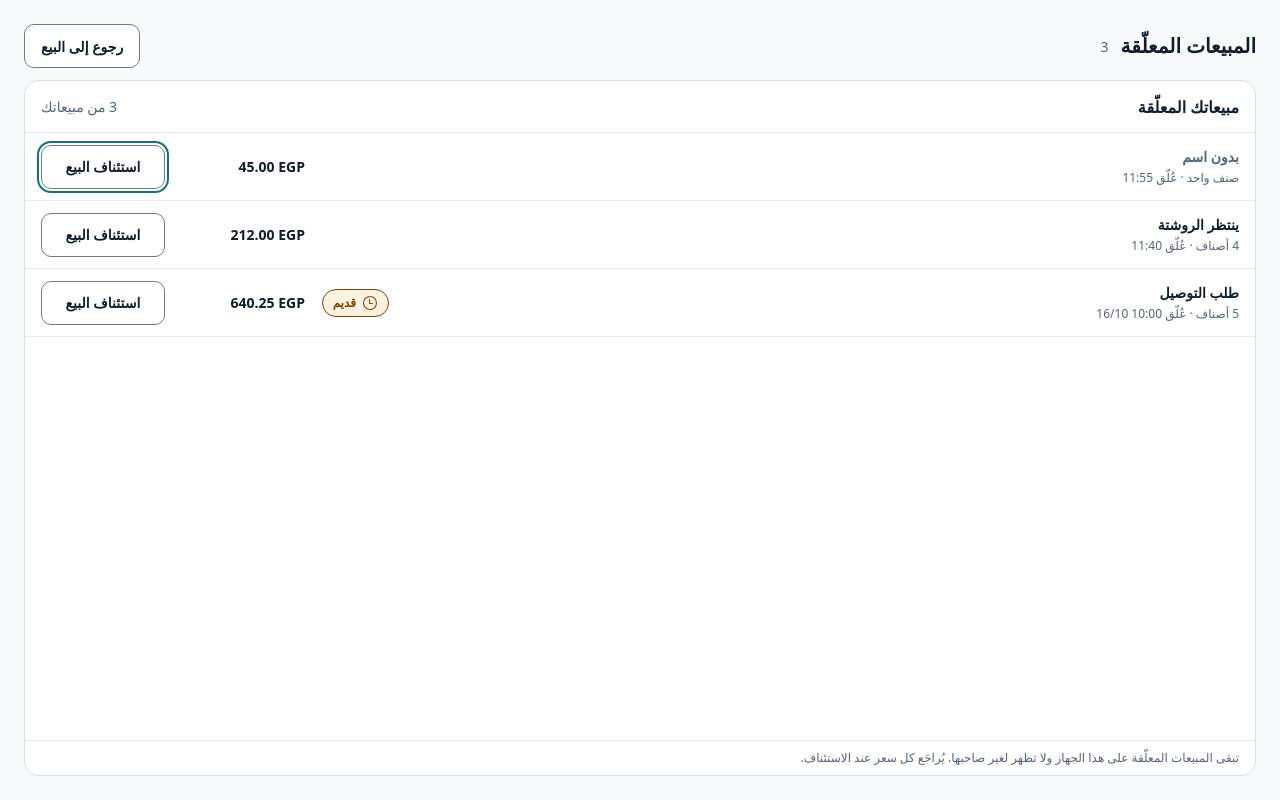
Test case: resume (spec 024 §3.3–§3.4) › removed lines only: «قبول الحذف واستئناف البيع»
Click the button "استئناف البيع" in the row of "ينتظر الروشتة" at (103, 234), box [41, 212, 165, 256]
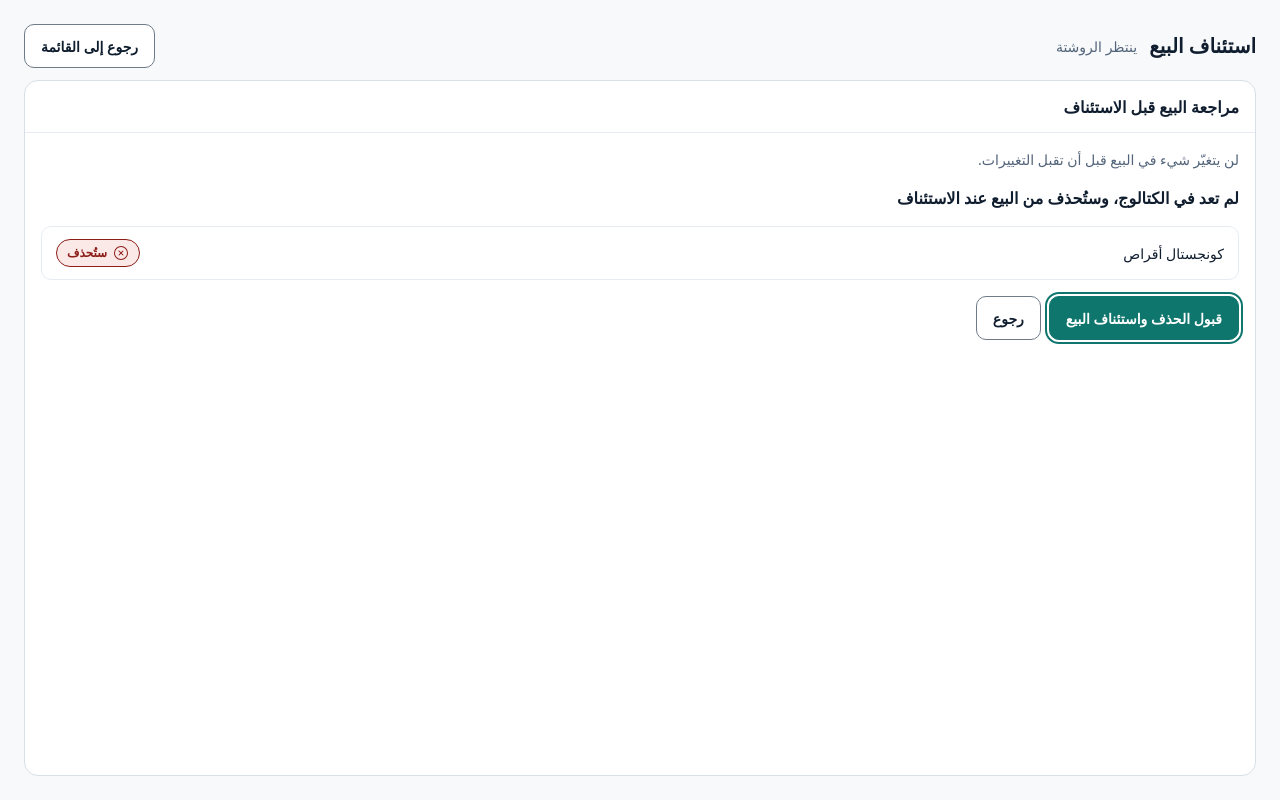
expect the button "قبول الحذف واستئناف البيع" is shown: met, box [1049, 296, 1239, 340]
